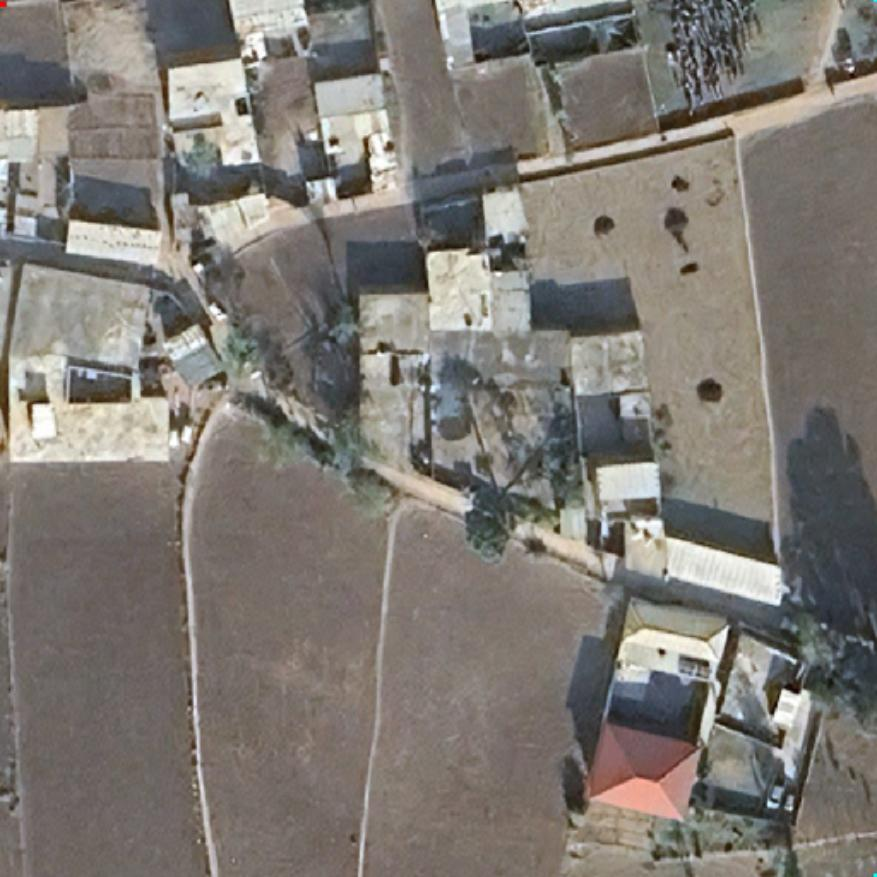Solarpanel: (678, 657, 711, 680)
